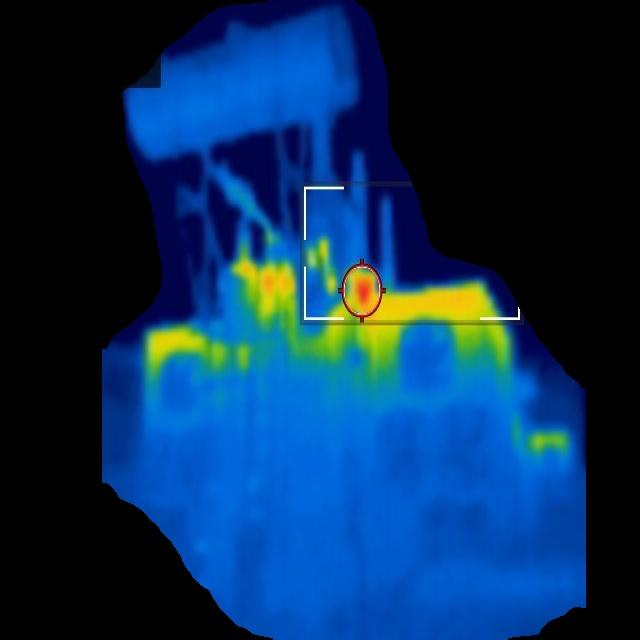Loose Joint F: (347, 266, 378, 314)
Loose Joint PF: (240, 258, 293, 315)
Transformer Overload: (146, 282, 519, 403)
